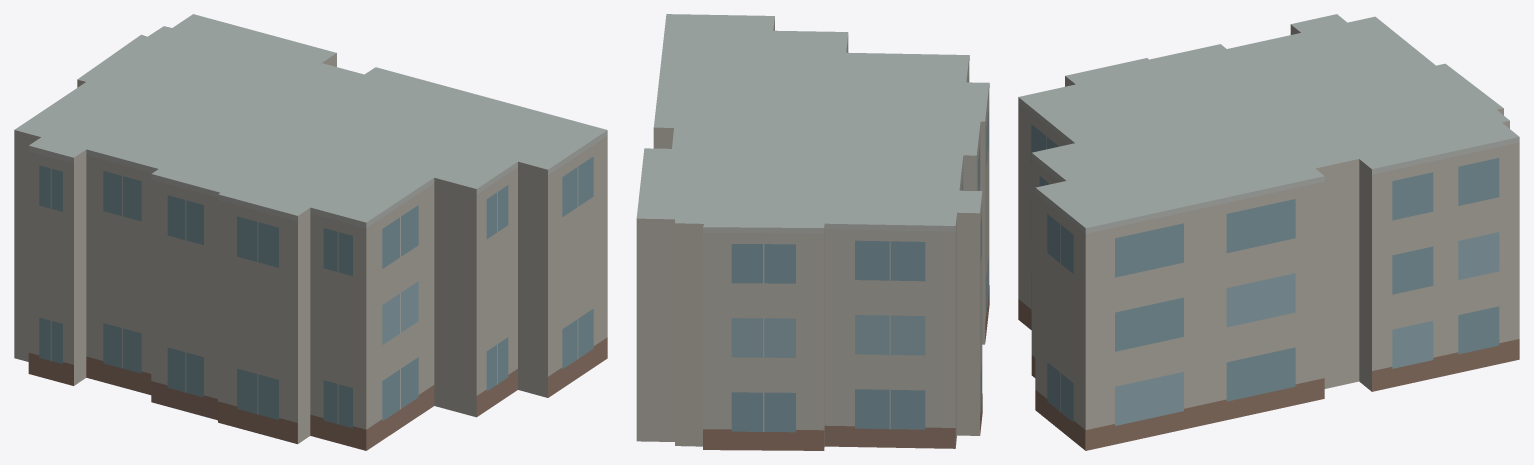
File: survey-upis-32932283.glb
The picture shows the model from 3 angles, left to right: view 1: azimuth 30°, elevation 25°; view 2: azimuth 150°, elevation 25°; view 3: azimuth 270°, elevation 25°; orthographic projection. The views are drawn at different scales.
Visible parts, largest first — view 1: survey-upis-32932283.tmp; view 2: survey-upis-32932283.tmp; view 3: survey-upis-32932283.tmp.
Part boxes in pixels (x1,y1,x2,y2): survey-upis-32932283.tmp: [14, 14, 607, 450]; survey-upis-32932283.tmp: [636, 14, 989, 450]; survey-upis-32932283.tmp: [1018, 14, 1519, 450].
Size of the model in its own units: 20.44 by 9.9 by 20.21.
